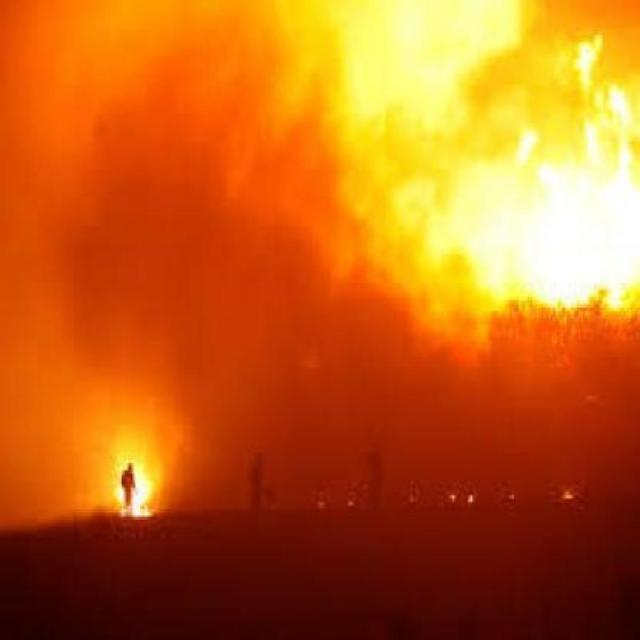Fire: (310, 194, 640, 426), (74, 406, 169, 542)
